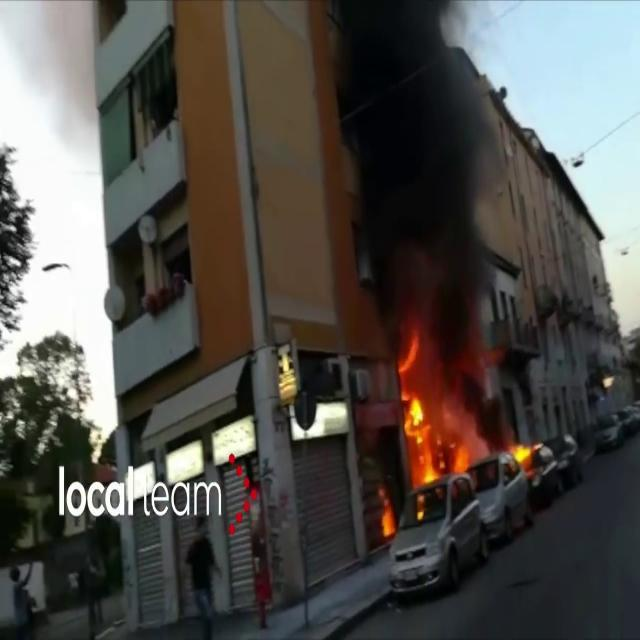Fire: (388, 327, 476, 511), (501, 434, 540, 474)
Smoke: (326, 1, 504, 344)
